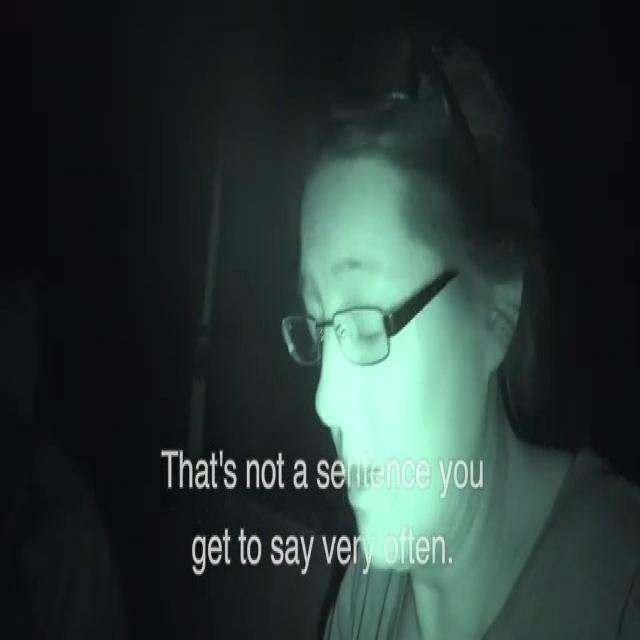human: (286, 7, 640, 640)
